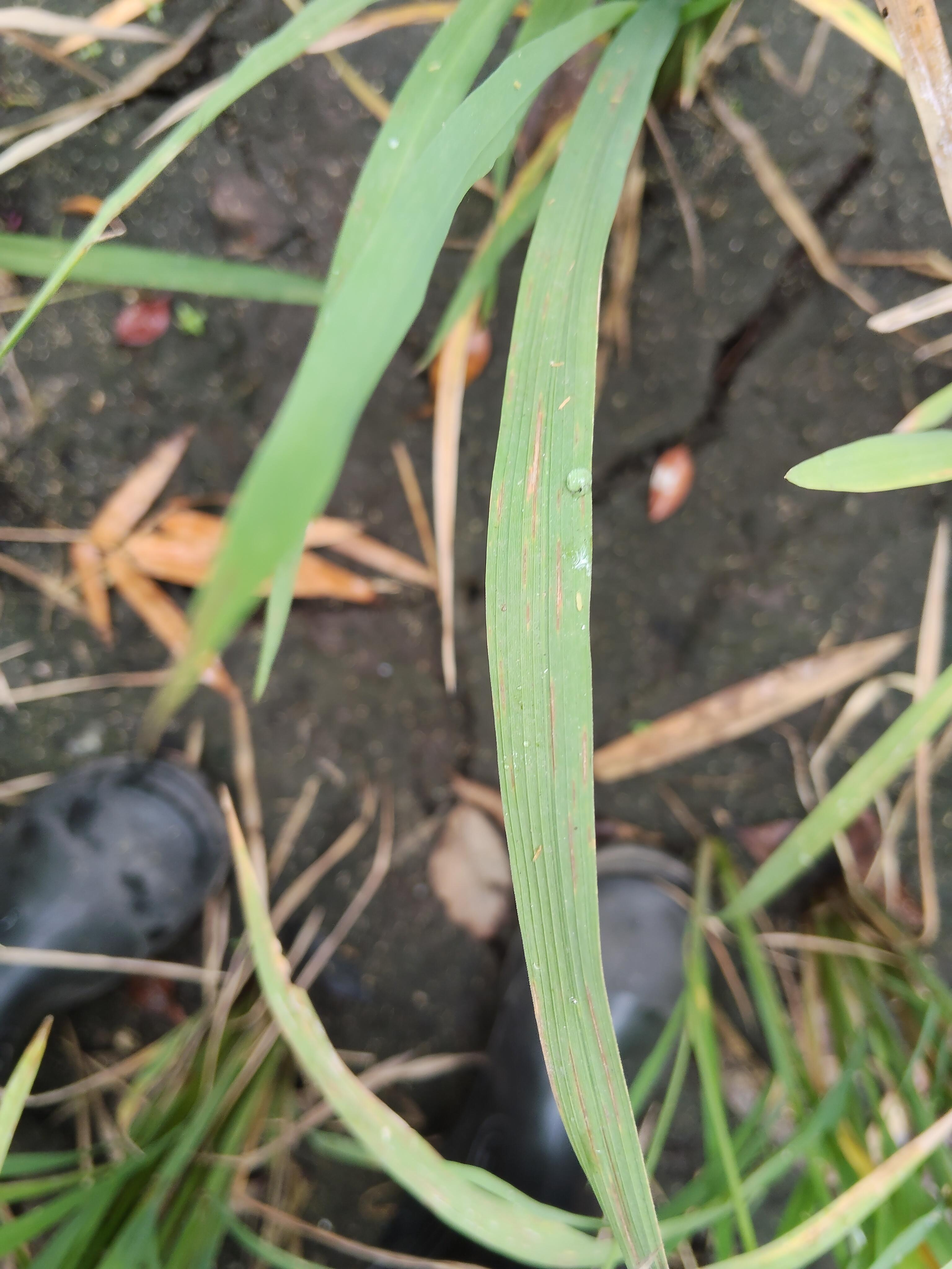NBS: (583, 985, 623, 1132), (530, 981, 563, 1116), (567, 1044, 599, 1163), (601, 1129, 631, 1226), (526, 398, 543, 541), (610, 1181, 637, 1261), (568, 812, 579, 895), (549, 682, 556, 781), (556, 540, 562, 632), (596, 264, 603, 330), (498, 660, 505, 713), (505, 371, 516, 403), (508, 754, 516, 791), (582, 729, 587, 786), (540, 293, 550, 320), (497, 482, 504, 519), (601, 1105, 611, 1125), (525, 283, 533, 306), (522, 543, 526, 588), (579, 497, 585, 519), (556, 487, 561, 510), (572, 781, 576, 808), (509, 342, 517, 355), (575, 422, 579, 444), (527, 602, 530, 631)
